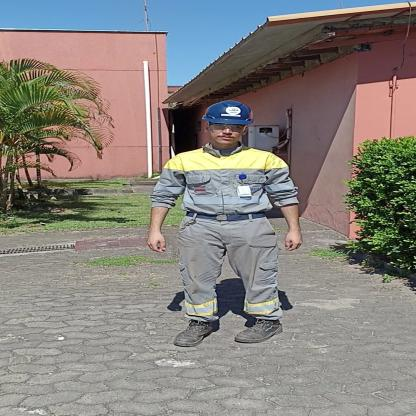Capacete: (206, 98, 255, 123)
